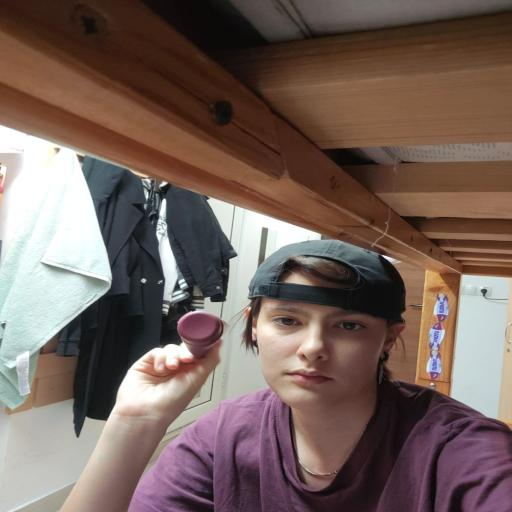Hand Cream: (174, 310, 227, 356)
